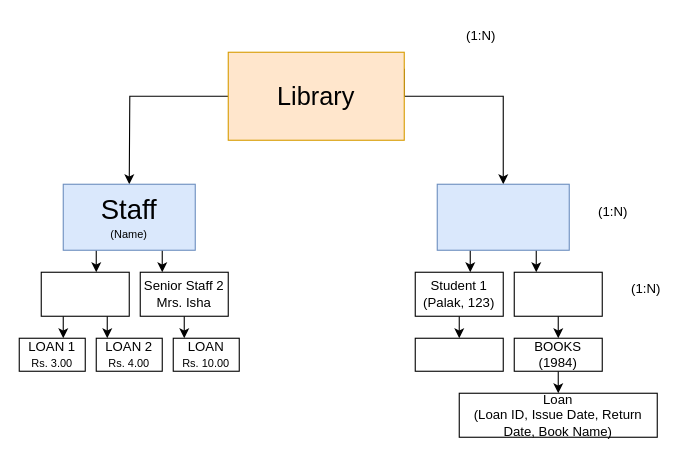
Some shapes in this 699 by 458 pixel diagram are drawn without their labels. Each missing label, with the centre of its shape:
"BOOKS (The Hobbit)" belongs at (458,354).
"Senior Staff 1 Dr. Upasna" belongs at (84,293).
"Student (Name, Roll No.)" belongs at (502,216).
"Student 2 (Aanya, 173)" belongs at (557,293).
